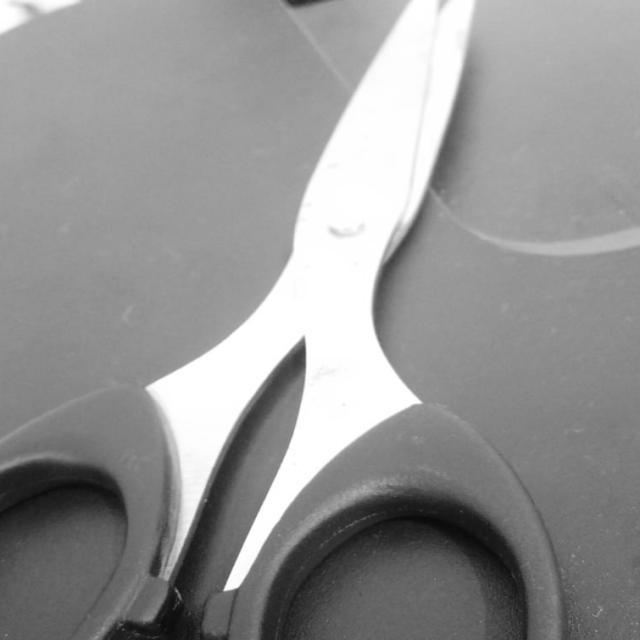tesoura: (0, 0, 564, 639)
